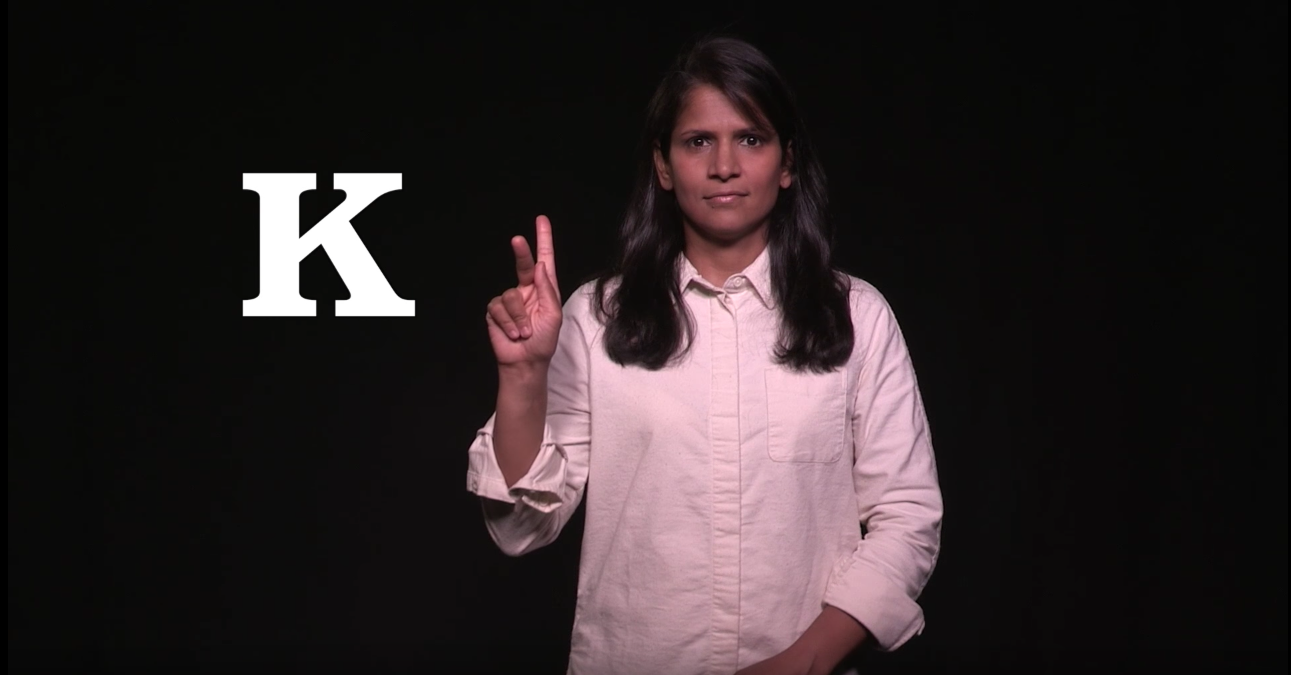k: (473, 195, 581, 377)
